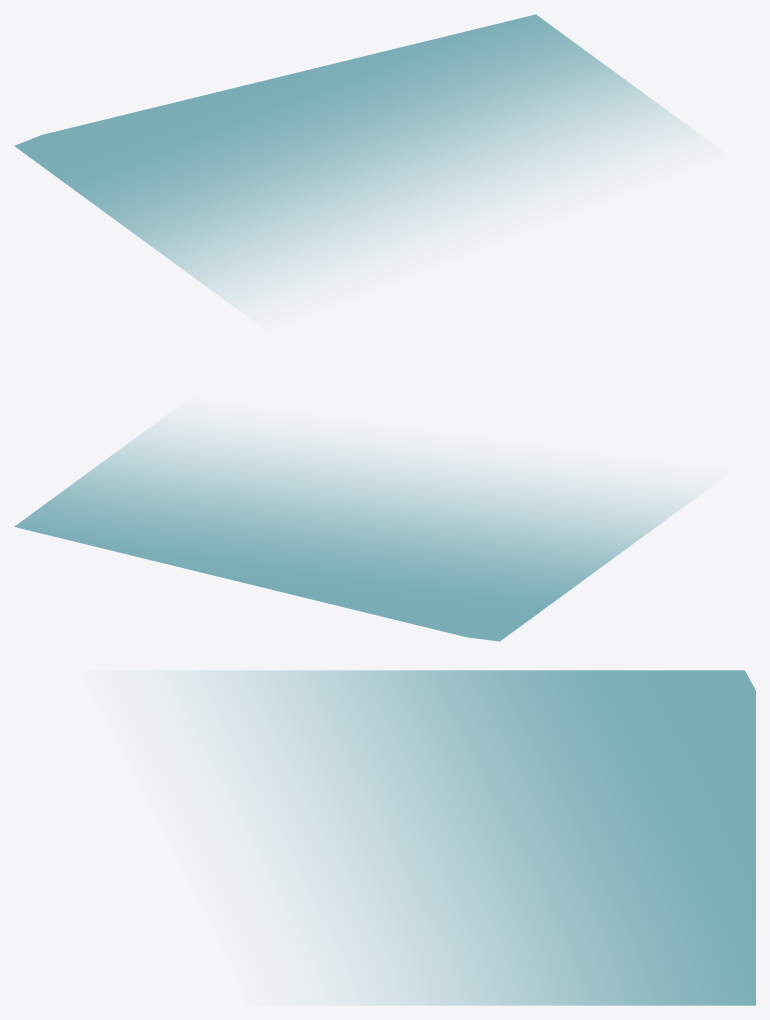
The picture shows the model from 3 angles, top to bottom: view 1: azimuth 30°, elevation 25°; view 2: azimuth 150°, elevation 25°; view 3: azimuth 270°, elevation 25°; orthographic projection. The views are drawn at different scales.
Parts seen in each view (by area): view 1: city; view 2: city; view 3: city.
Boxes of the visible parts, <box> form: city: <box>14,14,693,304</box>; city: <box>14,420,698,641</box>; city: <box>176,670,755,1005</box>.
Size of the model in its own units: 500 by 0 by 467.
